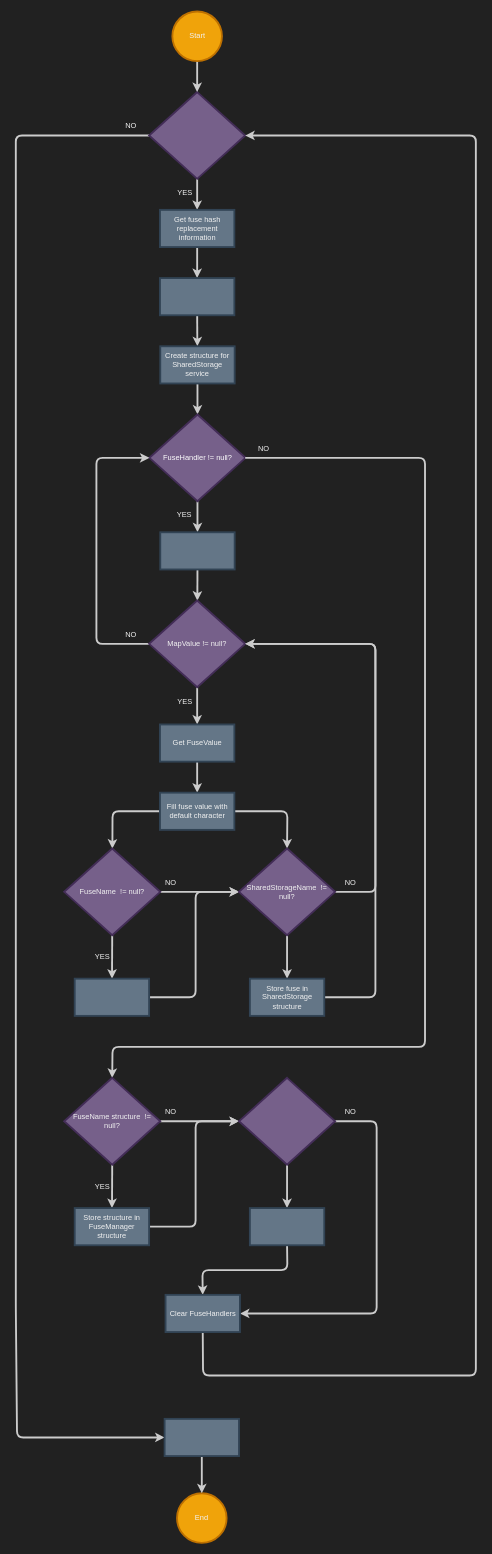
The diagram is 492 pixels wide and 1554 high, and some of its shapes have lost their labels. Here are the shapes that lost their labels. From the top down, the box of each, then its label:
(148, 91, 246, 179): FuseMap != null?
(159, 277, 235, 316): Create structure for FuseManager service
(159, 531, 235, 570): Get hash replacements values
(73, 977, 150, 1016): Store fuse in FuseManager structure
(238, 1077, 336, 1165): SharedStorageName structure != null?
(249, 1207, 325, 1246): Store structure in SharedStorage structure
(163, 1418, 240, 1457): Store All fuses
